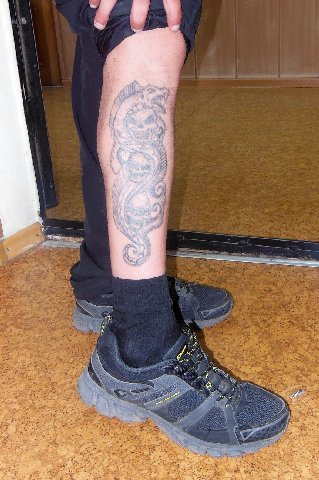tatu7_zmeya: (105, 71, 172, 266)
